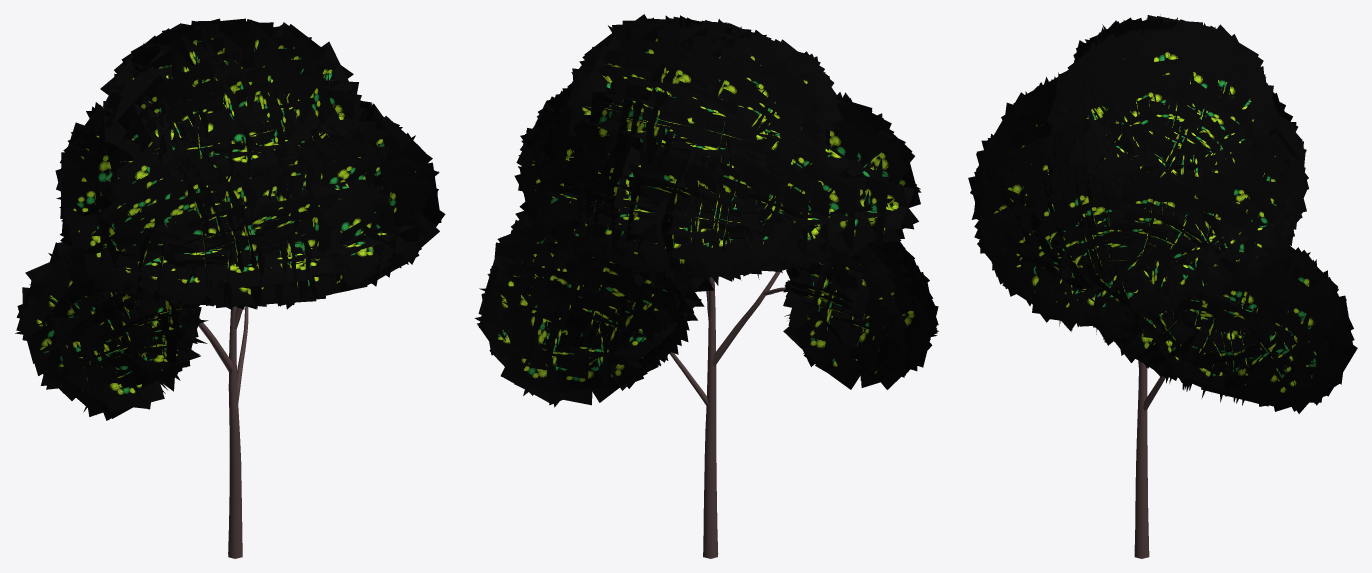
The model's file is treeexx.glb.
3 views of the same model, side by side, from view 1: azimuth 30°, elevation 25°; view 2: azimuth 150°, elevation 25°; view 3: azimuth 270°, elevation 25° (orthographic). The views are drawn at different scales.
Visible parts, largest first — view 1: Plane.562, tree; view 2: Plane.562, tree; view 3: Plane.562, tree.
Part boxes in pixels (x1,y1,x2,y2): Plane.562: [15, 18, 445, 420]; tree: [198, 223, 251, 558]; Plane.562: [474, 14, 938, 407]; tree: [669, 271, 785, 558]; Plane.562: [968, 14, 1357, 413]; tree: [1134, 360, 1165, 558].
Bounding box in the file's own units: 542 × 688 × 470.
2 materials, 1 textured.
